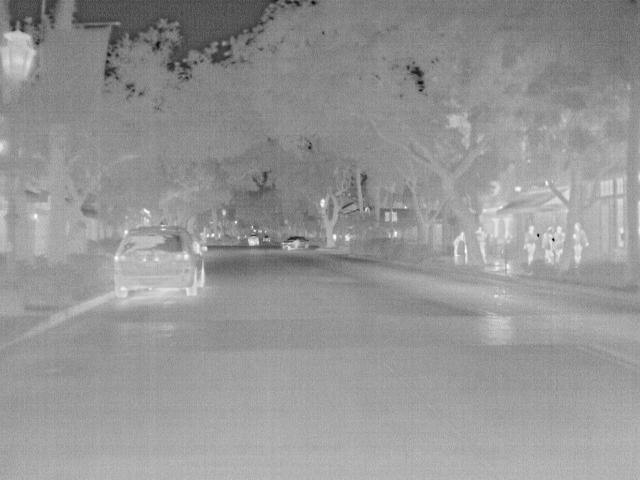car: (111, 224, 209, 301), (280, 236, 309, 252), (244, 232, 261, 248)
person: (475, 225, 493, 264), (521, 224, 538, 264), (573, 220, 587, 264), (539, 226, 556, 262), (552, 225, 566, 262)
